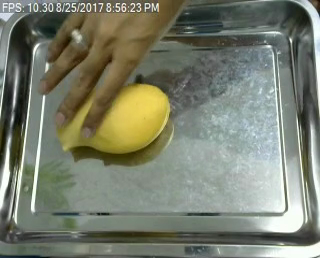Mango: (49, 81, 170, 157)
